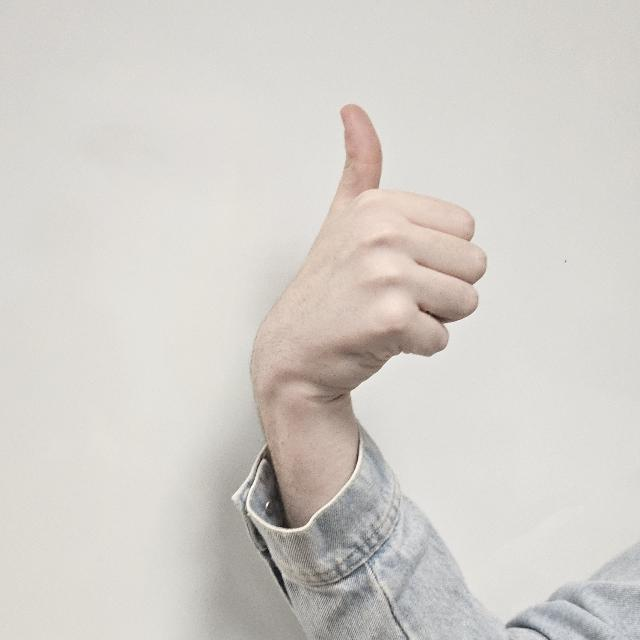Start: (310, 89, 496, 399)
